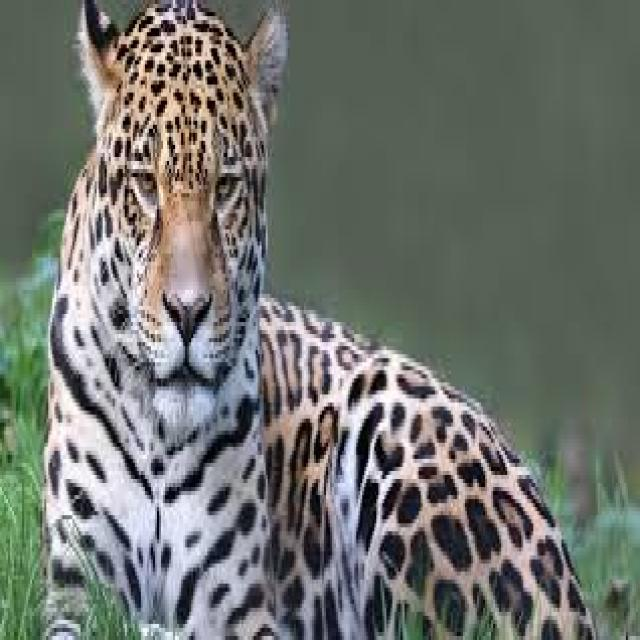Jaguar: (30, 4, 604, 640)
